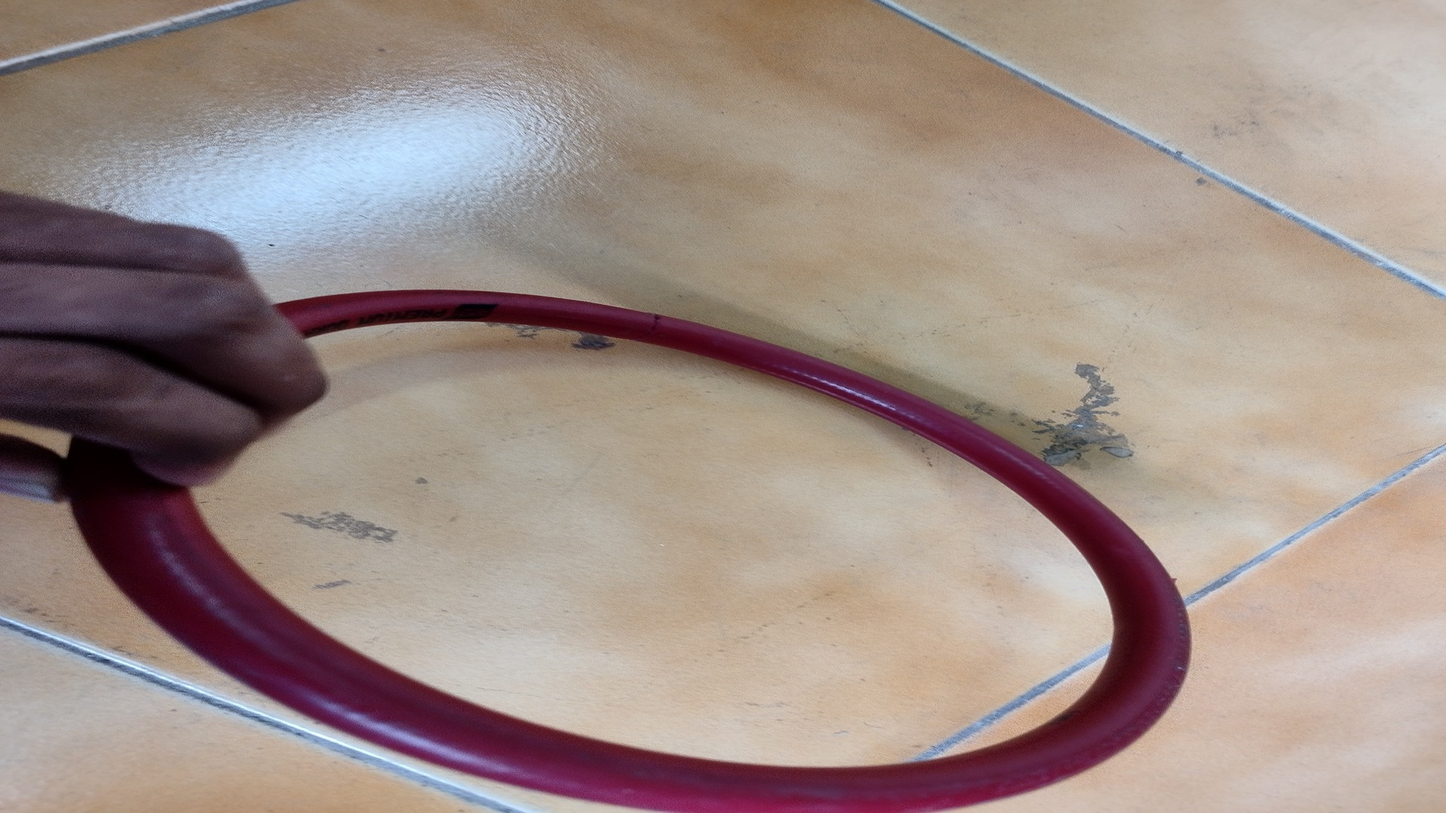Red ring: (331, 259, 1197, 803)
